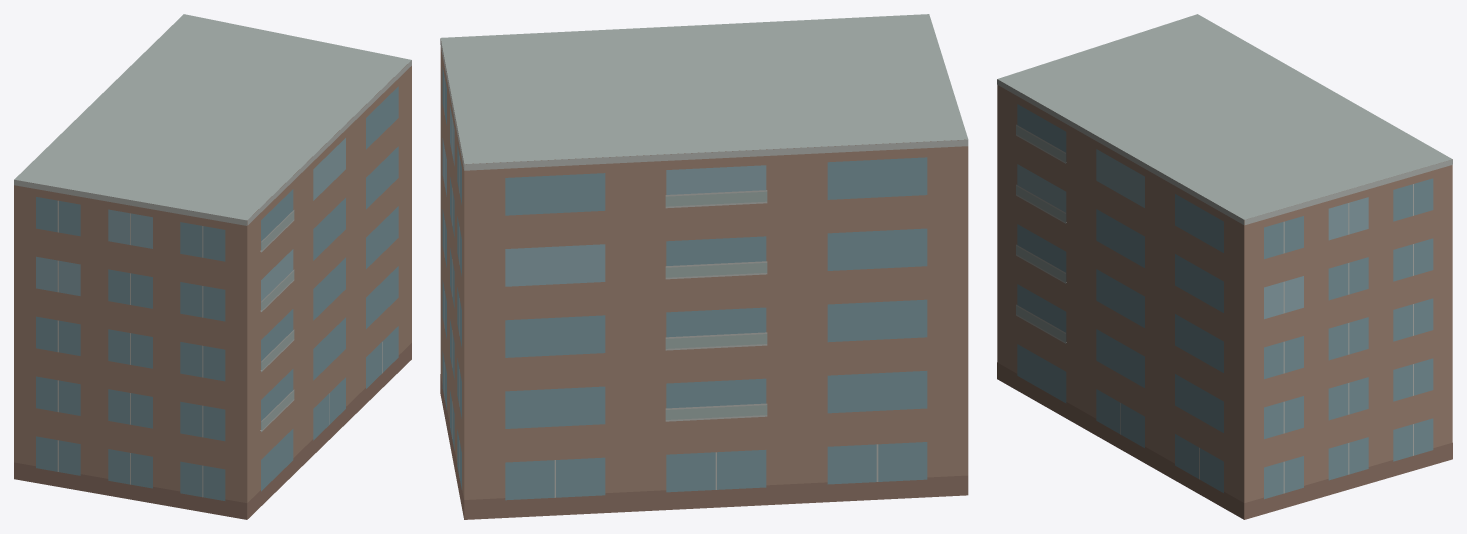
File: survey-upis-32757382.glb
The picture shows the model from 3 angles, left to right: view 1: azimuth 30°, elevation 25°; view 2: azimuth 150°, elevation 25°; view 3: azimuth 270°, elevation 25°; orthographic projection. The views are drawn at different scales.
Parts seen in each view (by area): view 1: survey-upis-32757382.tmp; view 2: survey-upis-32757382.tmp; view 3: survey-upis-32757382.tmp.
Part boxes in pixels (bbox=[...]): survey-upis-32757382.tmp: bbox=[14, 14, 411, 519]; survey-upis-32757382.tmp: bbox=[440, 14, 968, 519]; survey-upis-32757382.tmp: bbox=[997, 14, 1452, 519].
Bounding box in the file's own units: 19.43 × 13.2 × 18.18.
